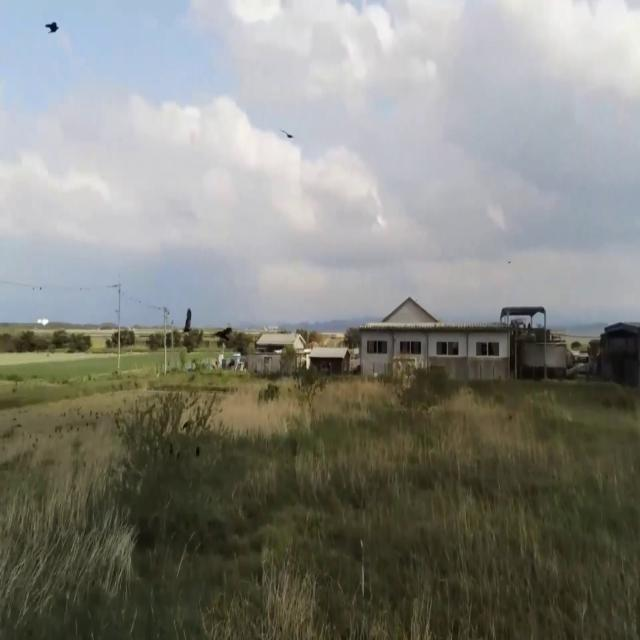bird: (45, 8, 60, 46), (281, 119, 294, 149)
